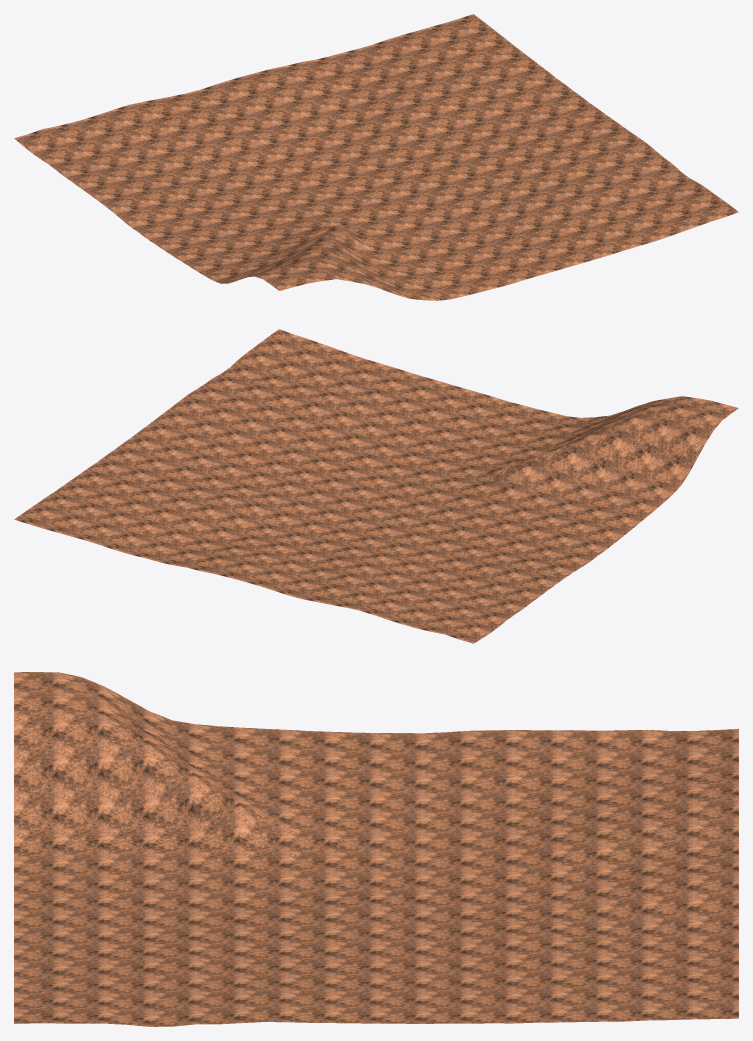
The model's file is terrain_09_08.dae.
3 views of the same model, one above another, from view 1: azimuth 30°, elevation 25°; view 2: azimuth 150°, elevation 25°; view 3: azimuth 270°, elevation 25° (orthographic). The views are drawn at different scales.
Parts seen in each view (by area): view 1: terrain_09_08-node; view 2: terrain_09_08-node; view 3: terrain_09_08-node.
Part boxes in pixels (x1,y1,x2,y2): terrain_09_08-node: (14, 14, 738, 300); terrain_09_08-node: (14, 329, 738, 643); terrain_09_08-node: (14, 672, 738, 1026).
Size of the model in its own units: 128 by 128 by 13.52.
Materials: 1 (1 with a texture image).
